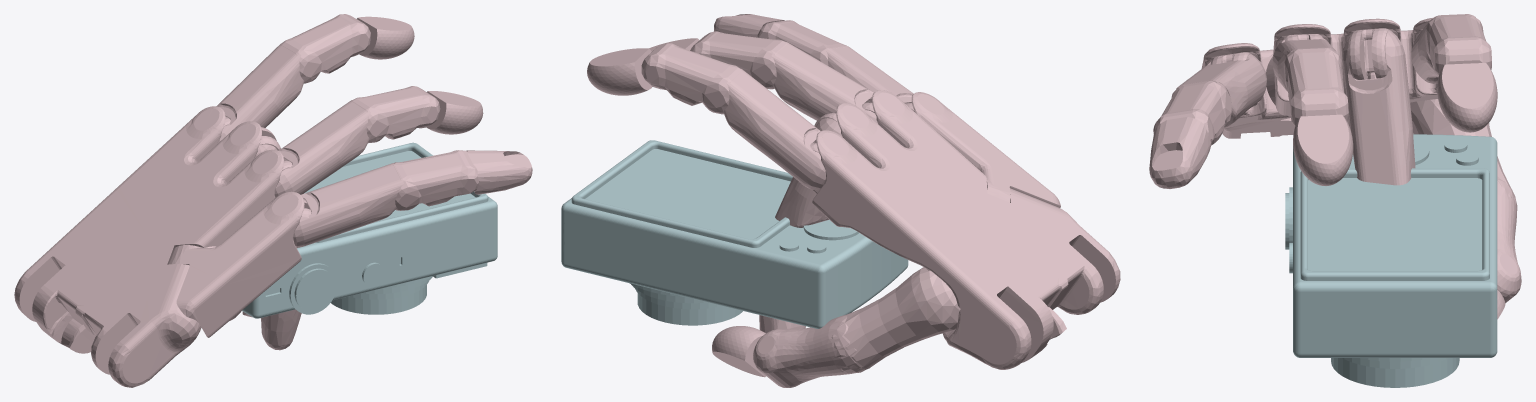
File: grasp_2.glb
3 views of the same model, side by side, from view 1: azimuth 30°, elevation 25°; view 2: azimuth 150°, elevation 25°; view 3: azimuth 270°, elevation 25° (orthographic). The views are drawn at different scales.
Parts seen in each view (by area): view 1: world; view 2: world; view 3: world.
Part boxes in pixels (x1=…): world: x1=14, y1=14, x2=532, y2=387; world: x1=561, y1=14, x2=1120, y2=387; world: x1=1149, y1=14, x2=1521, y2=387.
Size of the model in its own units: 0.193 by 0.1291 by 0.1178.
